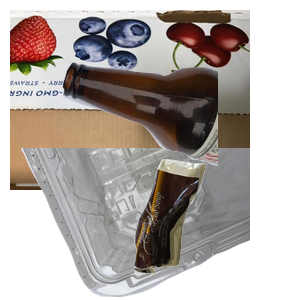cardboard: (10, 10, 250, 190)
glass: (60, 59, 300, 217)
plastic: (19, 148, 259, 300)
trash: (131, 157, 300, 300)
